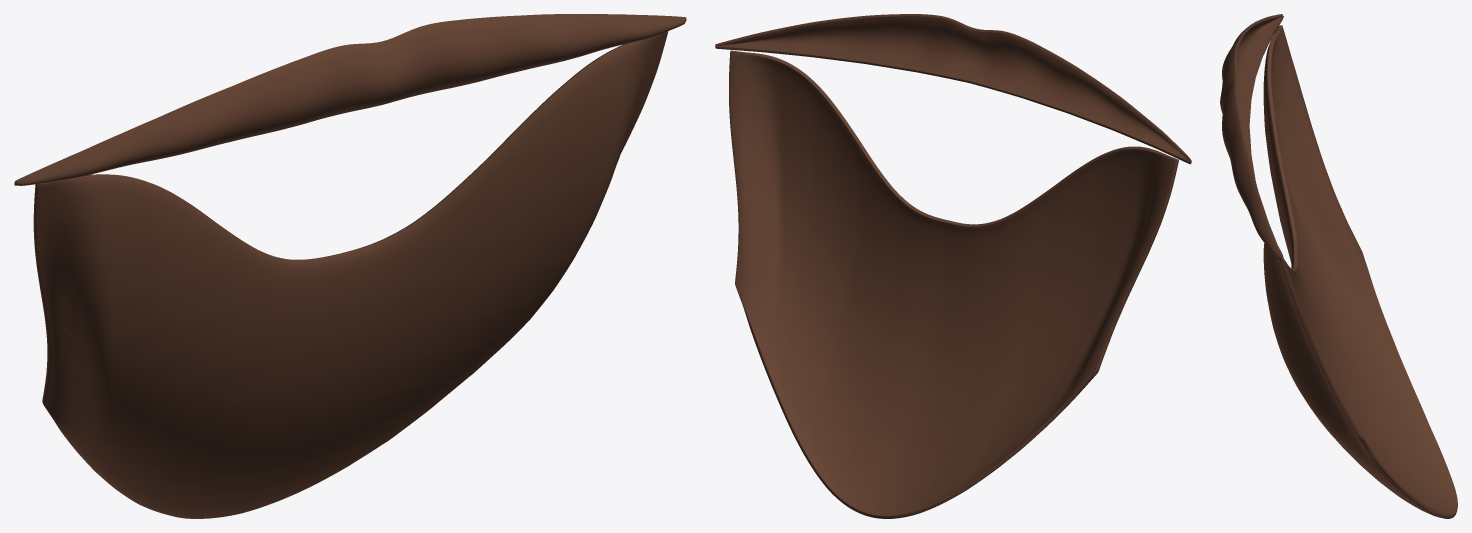
The model's file is Masculine-groom-goatee.glb.
3 views of the same model, side by side, from view 1: azimuth 30°, elevation 25°; view 2: azimuth 150°, elevation 25°; view 3: azimuth 270°, elevation 25° (orthographic). The views are drawn at different scales.
Parts seen in each view (by area): view 1: Groom / goatee body184, Groom / shared mustache184; view 2: Groom / goatee body184, Groom / shared mustache184; view 3: Groom / goatee body184, Groom / shared mustache184.
Part boxes in pixels (x1,y1,x2,y2): Groom / goatee body184: (33,31,668,518); Groom / shared mustache184: (14,14,686,185); Groom / goatee body184: (729,50,1178,518); Groom / shared mustache184: (715,14,1191,164); Groom / goatee body184: (1263,25,1457,518); Groom / shared mustache184: (1220,14,1283,261).
Size of the model in its own units: 0.2613 by 0.2176 by 0.1075.
